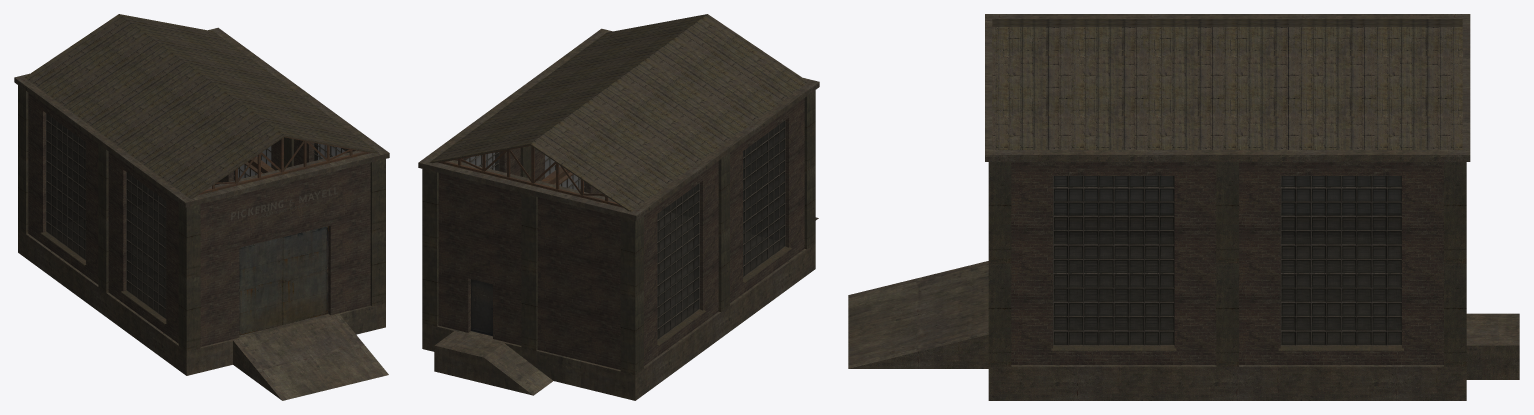
Rendered from warehouse_mx_1.glb.
The picture shows the model from 3 angles, left to right: view 1: azimuth 30°, elevation 25°; view 2: azimuth 150°, elevation 25°; view 3: azimuth 270°, elevation 25°; orthographic projection. The views are drawn at different scales.
Parts seen in each view (by area): view 1: warehouse_mx_1, garage_door_hr_4_piece_2, garage_door_hr_4_piece_1, building_sign_mx_1; view 2: warehouse_mx_1, door_hr_5; view 3: warehouse_mx_1.
Boxes of the visible parts, bbox=[...] form: warehouse_mx_1: bbox=[14, 14, 389, 400]; garage_door_hr_4_piece_2: bbox=[283, 226, 328, 324]; garage_door_hr_4_piece_1: bbox=[239, 237, 282, 335]; building_sign_mx_1: bbox=[231, 187, 337, 220]; warehouse_mx_1: bbox=[418, 14, 819, 400]; door_hr_5: bbox=[471, 279, 492, 336]; warehouse_mx_1: bbox=[848, 14, 1519, 400].
Bounding box in the file's own units: 8.8 × 8.87 × 17.7.
Materials: 12 (12 with a texture image).
